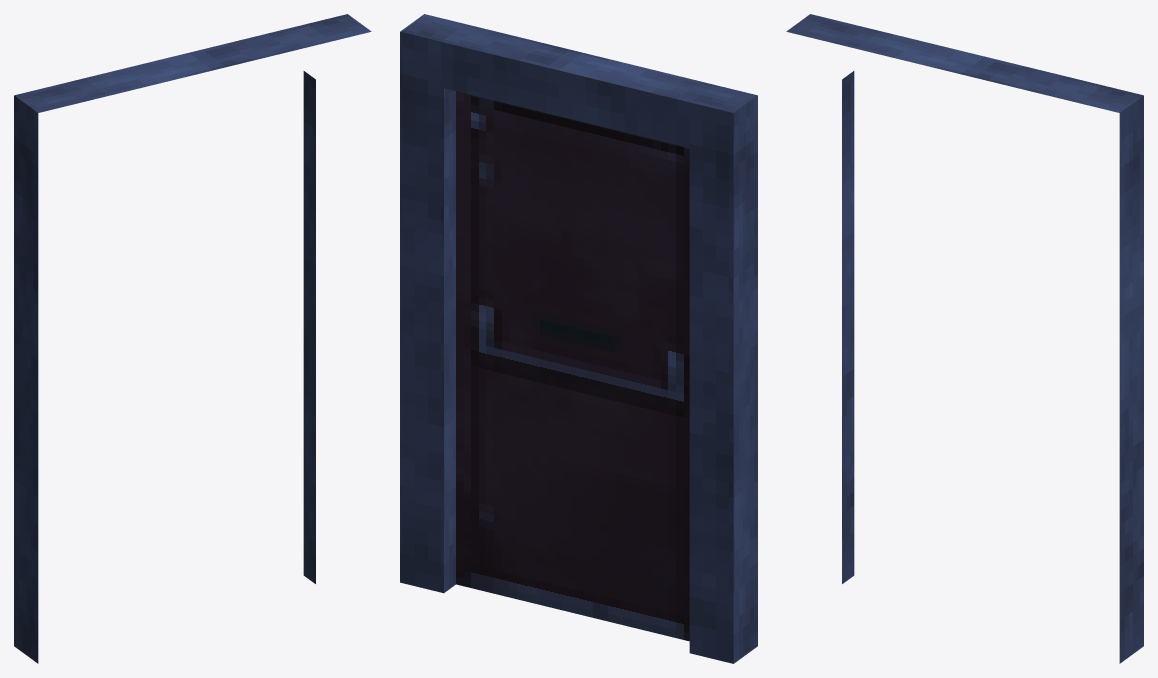
3 renders of one model, left to right at view 1: azimuth 30°, elevation 25°; view 2: azimuth 150°, elevation 25°; view 3: azimuth 330°, elevation 25°, orthographic.
Parts seen in each view (by area): view 1: door-type-a; view 2: door-type-a; view 3: door-type-a.
Boxes of the visible parts, x1,y1,x2,y2 form: door-type-a: (14, 14, 371, 663); door-type-a: (400, 14, 757, 663); door-type-a: (786, 14, 1143, 663).
Size of the model in its own units: 0.3978 by 0.6278 by 0.05.
2 materials, 2 textured.
